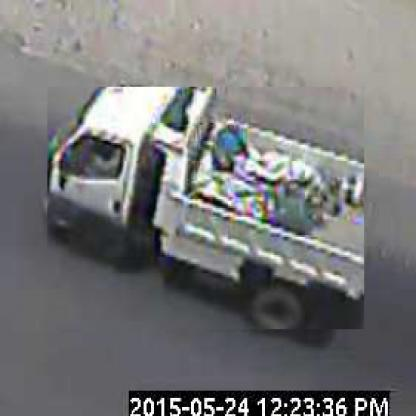truck: (48, 88, 367, 332)
